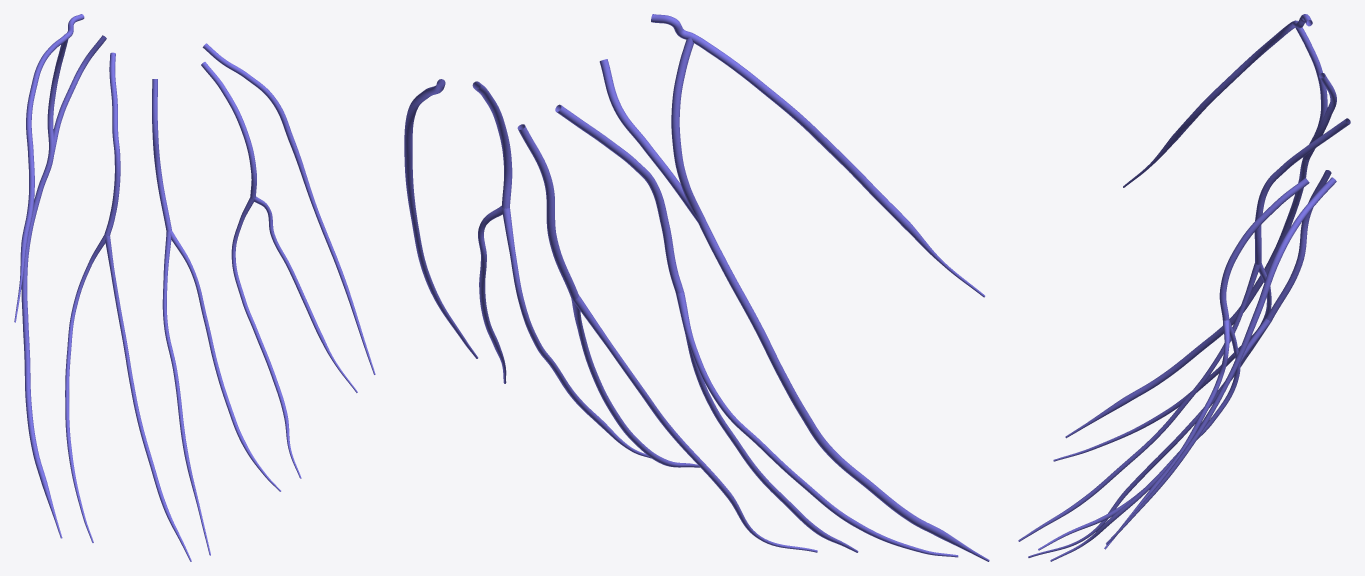
Rendered from Palmar_digital_veins.r_BezierCurve.377.glb.
3 renders of one model, left to right at view 1: azimuth 30°, elevation 25°; view 2: azimuth 150°, elevation 25°; view 3: azimuth 270°, elevation 25°, orthographic. The views are drawn at different scales.
Parts seen in each view (by area): view 1: Palmar_digital_veins.r_BezierCurve.377; view 2: Palmar_digital_veins.r_BezierCurve.377; view 3: Palmar_digital_veins.r_BezierCurve.377.
Boxes of the visible parts, x1=… form: Palmar_digital_veins.r_BezierCurve.377: x1=14, y1=14, x2=375, y2=561; Palmar_digital_veins.r_BezierCurve.377: x1=404, y1=14, x2=989, y2=561; Palmar_digital_veins.r_BezierCurve.377: x1=1018, y1=14, x2=1350, y2=561.
Bounding box in the file's own units: 0.0999 × 0.1225 × 0.0692.
